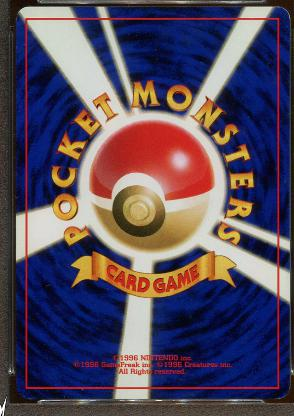Card: (10, 3, 292, 402)
Corner Wear: (271, 386, 288, 400), (274, 6, 291, 20), (14, 10, 20, 24), (23, 396, 36, 402)
Scratch: (14, 194, 19, 198)
